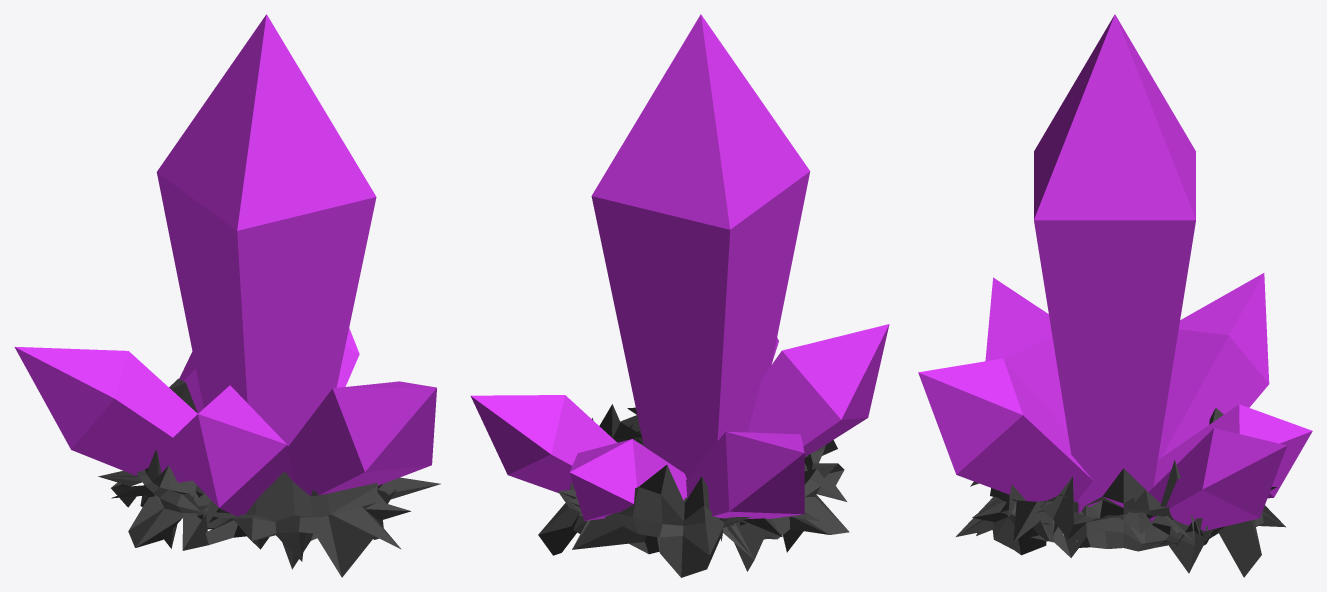
File: crystal.glb
3 views of the same model, side by side, from view 1: azimuth 30°, elevation 25°; view 2: azimuth 150°, elevation 25°; view 3: azimuth 270°, elevation 25° (orthographic).
Parts seen in each view (by area): view 1: Crystal; view 2: Crystal; view 3: Crystal.
Boxes of the visible parts, <box> form: Crystal: <box>14,14,440,577</box>; Crystal: <box>470,14,889,577</box>; Crystal: <box>918,14,1312,577</box>.
Size of what is drawn, in the model's own units: 9.48 by 14.47 by 9.91.
1 material, 1 textured.
